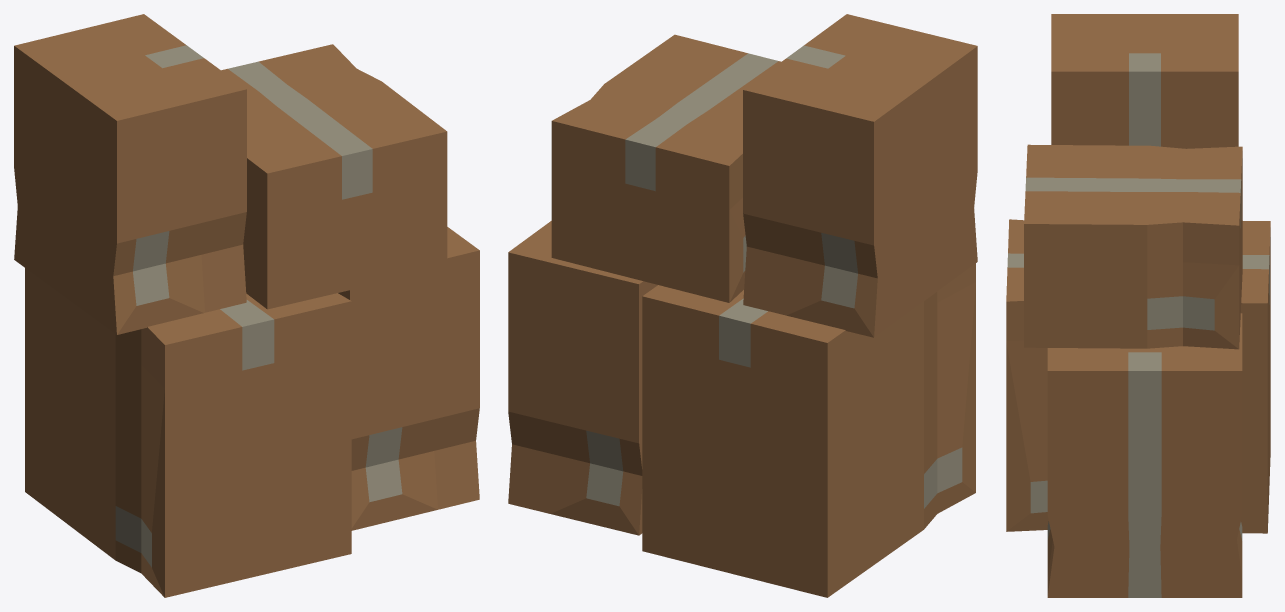
Rendered from CardboardBoxes.gltf.
3 views of the same model, side by side, from view 1: azimuth 30°, elevation 25°; view 2: azimuth 150°, elevation 25°; view 3: azimuth 270°, elevation 25° (orthographic). The views are drawn at different scales.
Visible parts, largest first — view 1: CardboardBoxes_4; view 2: CardboardBoxes_4; view 3: CardboardBoxes_4.
Boxes of the visible parts, x1,y1,x2,y2 form: CardboardBoxes_4: (14, 14, 479, 597); CardboardBoxes_4: (508, 14, 977, 597); CardboardBoxes_4: (1006, 14, 1270, 597).
Size of the model in its own units: 1.42 by 1.75 by 0.9863.
